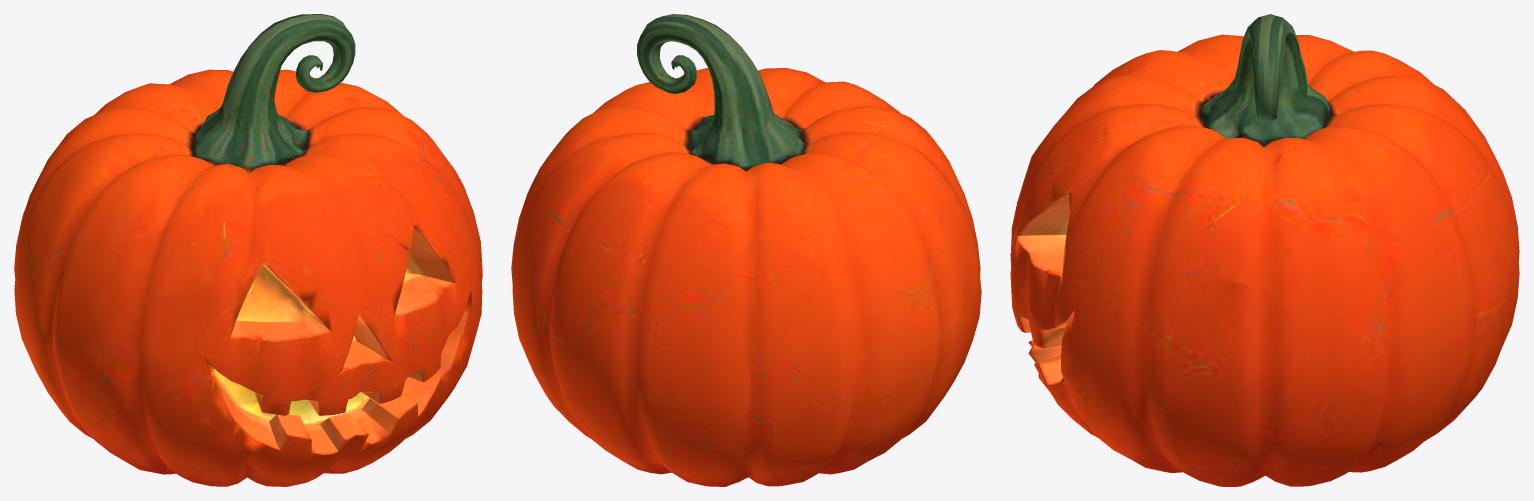
The model's file is prop_pumpkin.glb.
The picture shows the model from 3 angles, left to right: view 1: azimuth 30°, elevation 25°; view 2: azimuth 150°, elevation 25°; view 3: azimuth 270°, elevation 25°; orthographic projection. The views are drawn at different scales.
Parts seen in each view (by area): view 1: prop_pumpkin; view 2: prop_pumpkin; view 3: prop_pumpkin.
Boxes of the visible parts, x1,y1,x2,y2 form: prop_pumpkin: (14, 14, 482, 486); prop_pumpkin: (511, 14, 981, 486); prop_pumpkin: (1010, 14, 1519, 486).
Bounding box in the file's own units: 1.8 × 1.7 × 1.8.
Materials: 1 (1 with a texture image).
